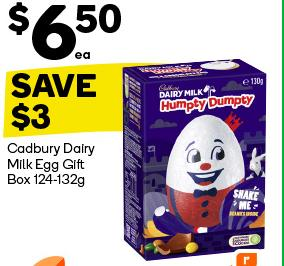description_block: (3, 141, 99, 197)
price_main: (0, 0, 125, 66)
product_image_block: (119, 59, 271, 257)
promo_text_block: (5, 70, 121, 137)
